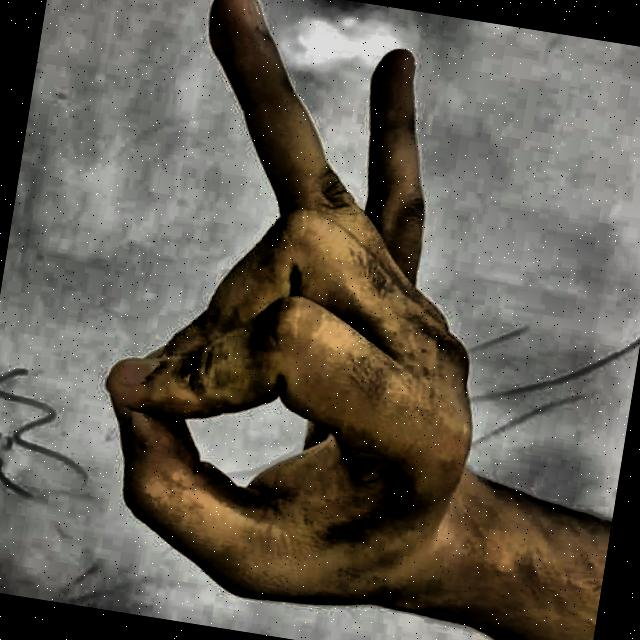Na: (27, 0, 563, 640)
